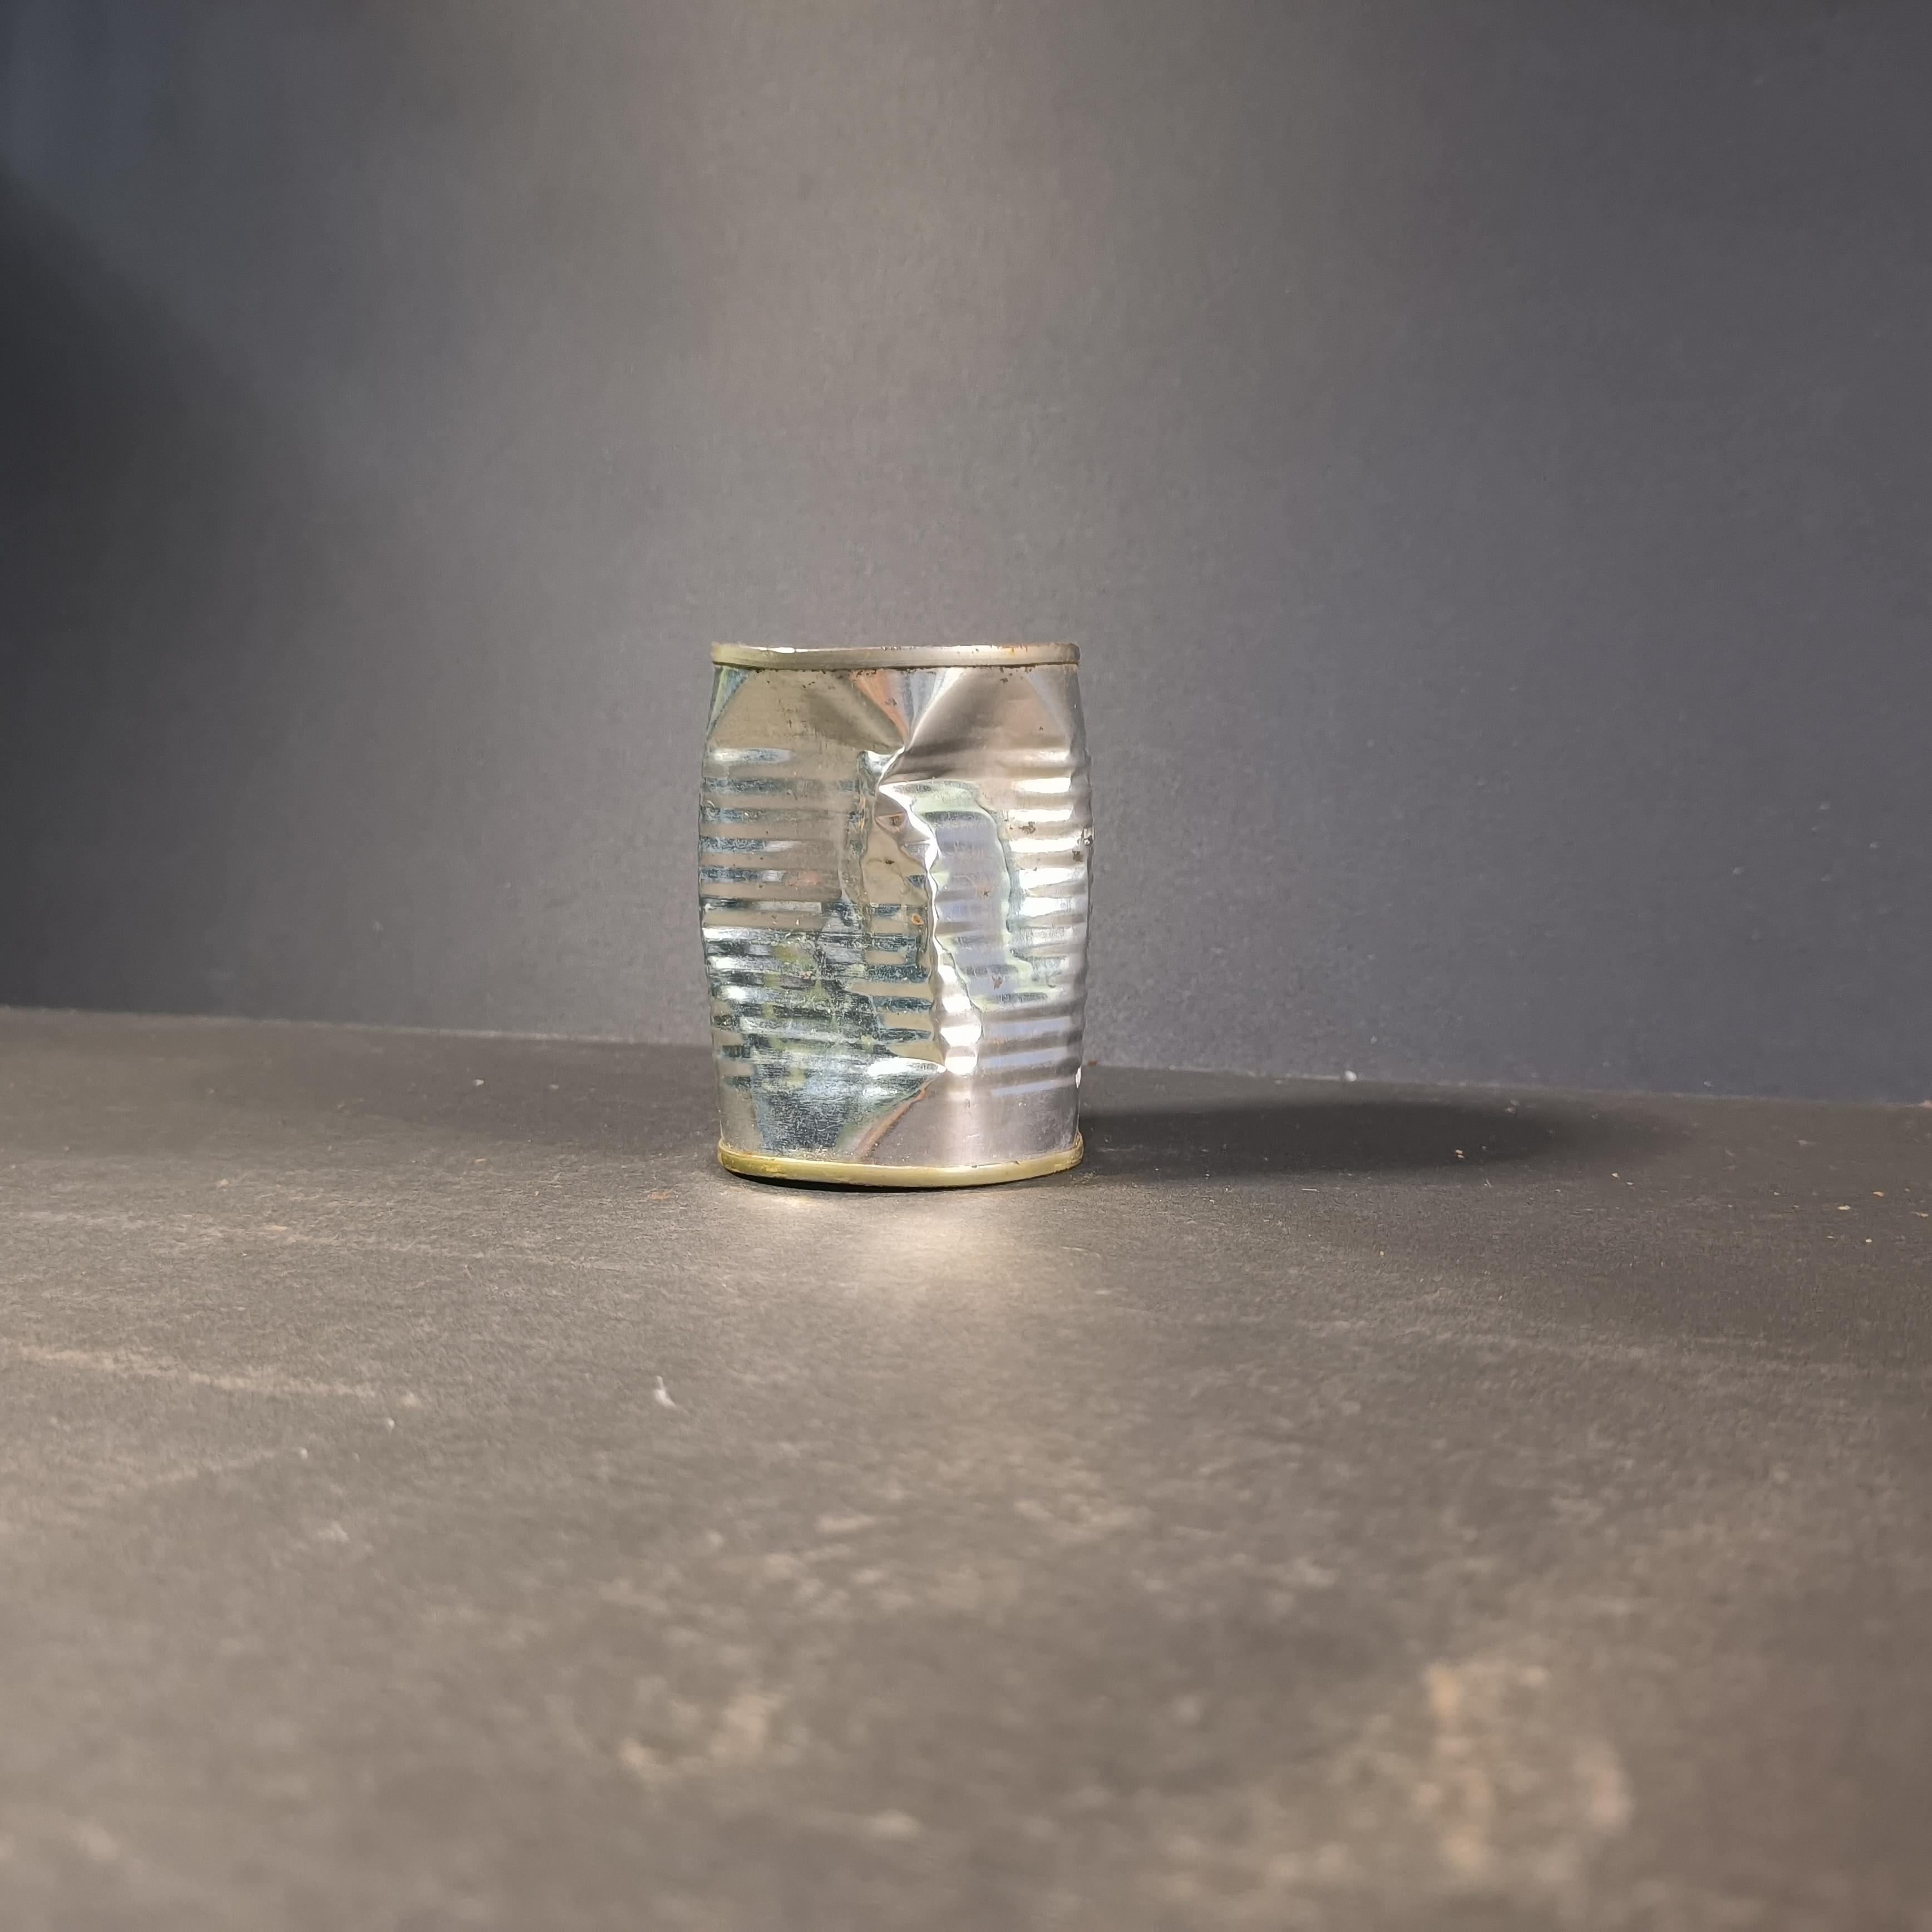Dented: (681, 632, 1118, 1196)
